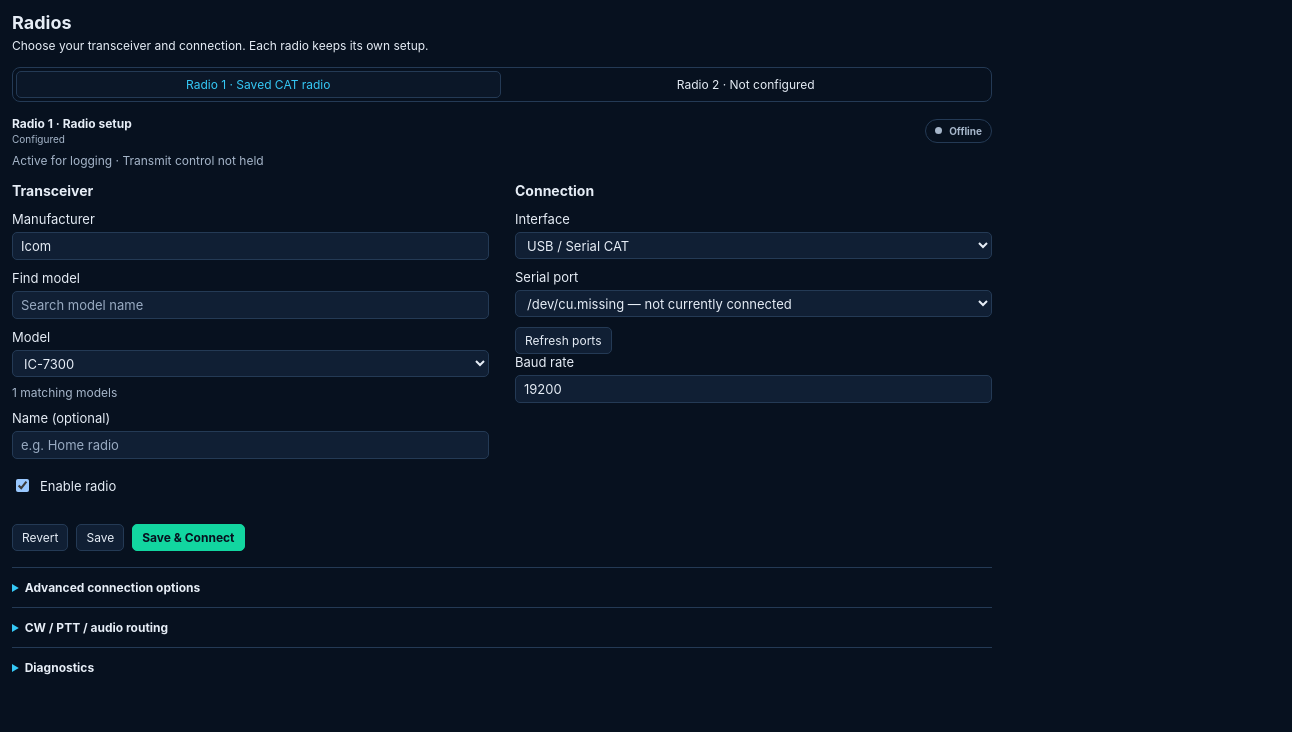
retains missing serial ports, exact legacy IDs and edited text on external invalidation
Expected: the dropdown named "Radio 1 model" shows "IC-7300", left=12, top=350, right=489, bottom=377
Expected: the dropdown labelled "Serial port" shows "/dev/cu.missing — not currently connected", left=515, top=290, right=992, bottom=317
Type "Typed name" into the field named "Radio nickname" at (250, 445), box left=12, top=431, right=489, bottom=459
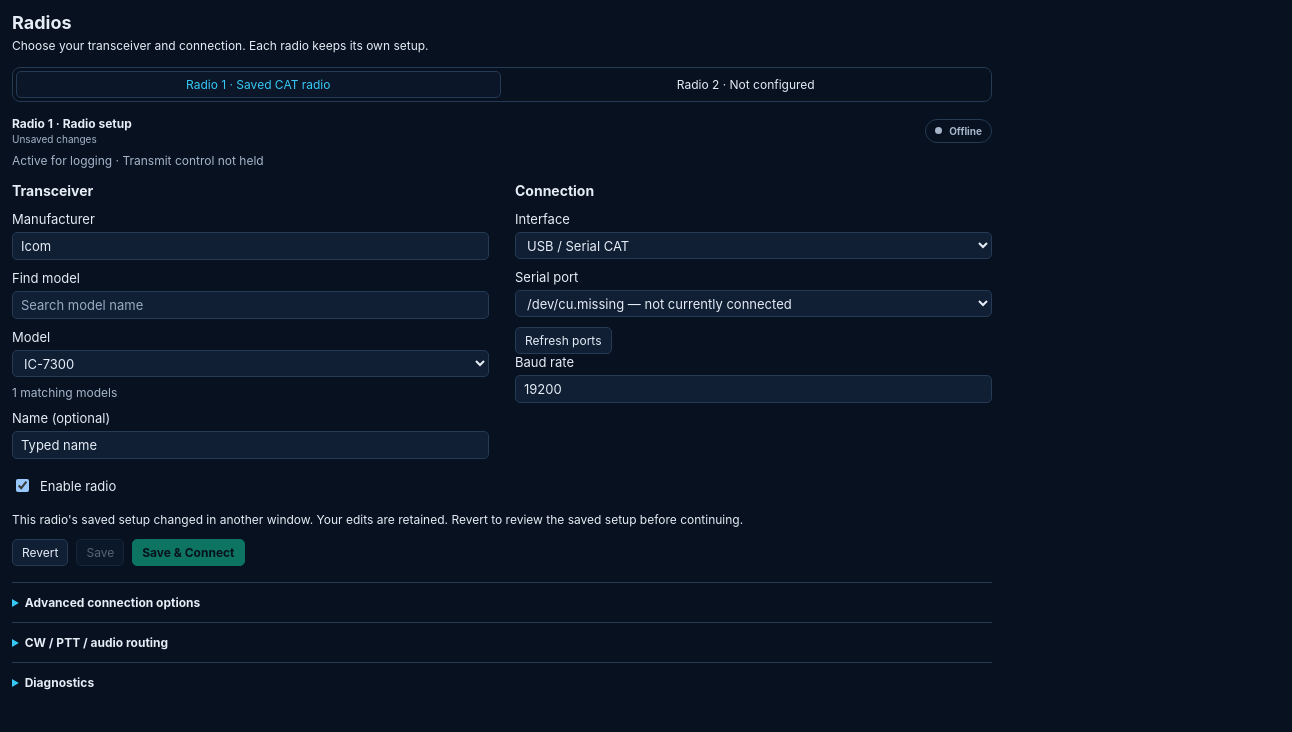
Expected: the text "saved setup changed in another window" is shown, left=12, top=512, right=743, bottom=527
